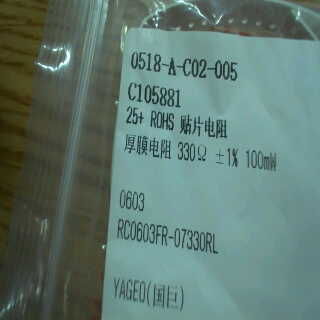330R: (176, 137, 210, 167)
